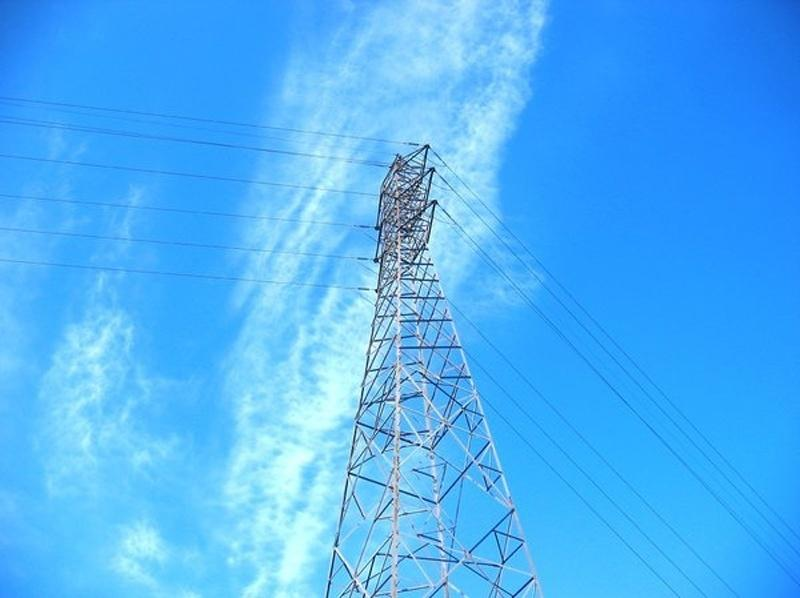power_tower: (338, 154, 525, 595)
